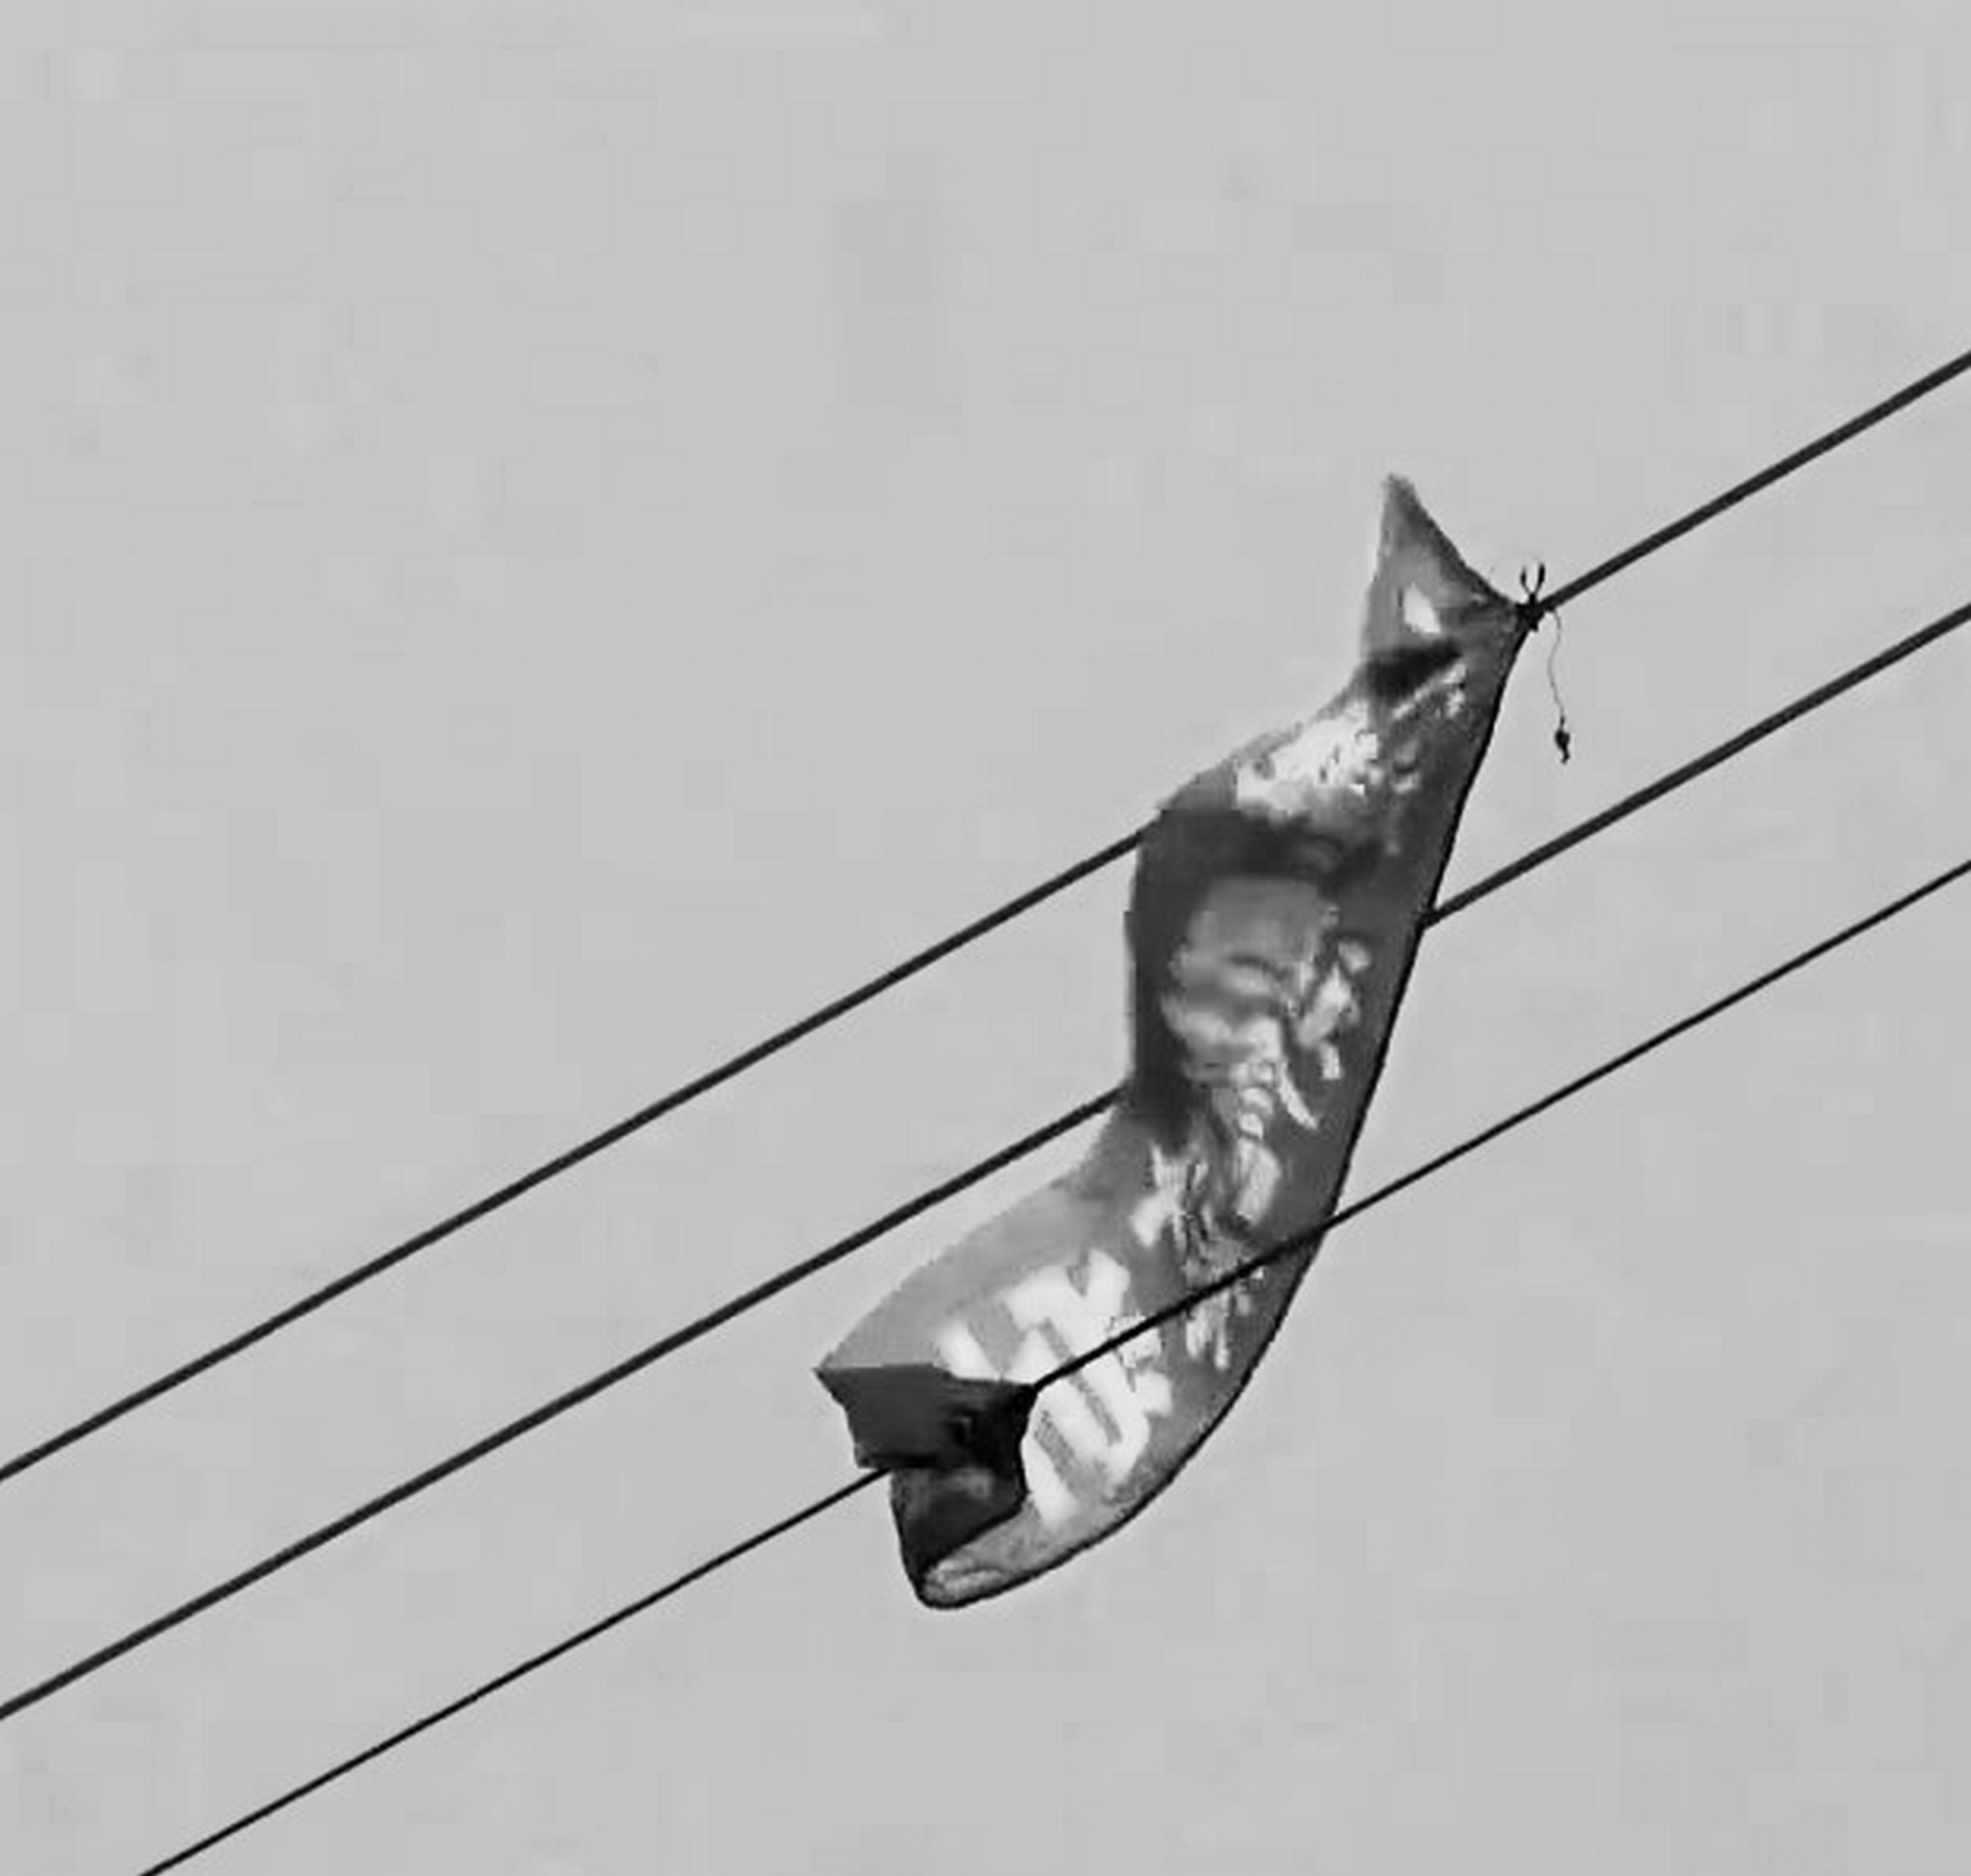wire foreign body: (817, 487, 1623, 1626)
